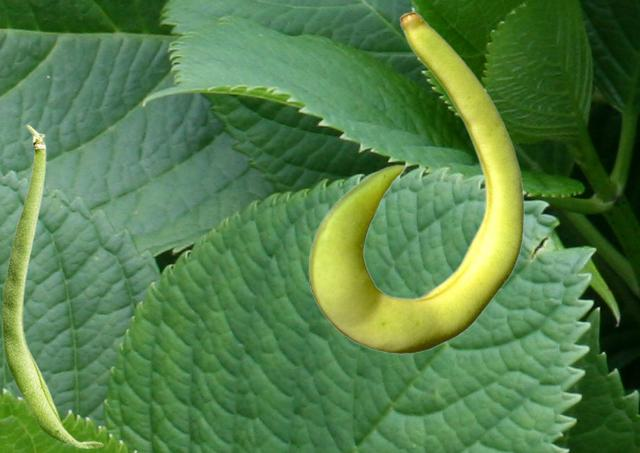french_bean: (308, 11, 524, 353), (2, 124, 103, 448)
